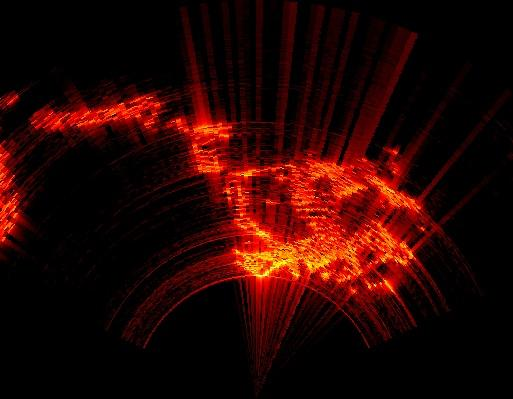shipwreck: (27, 93, 420, 293)
